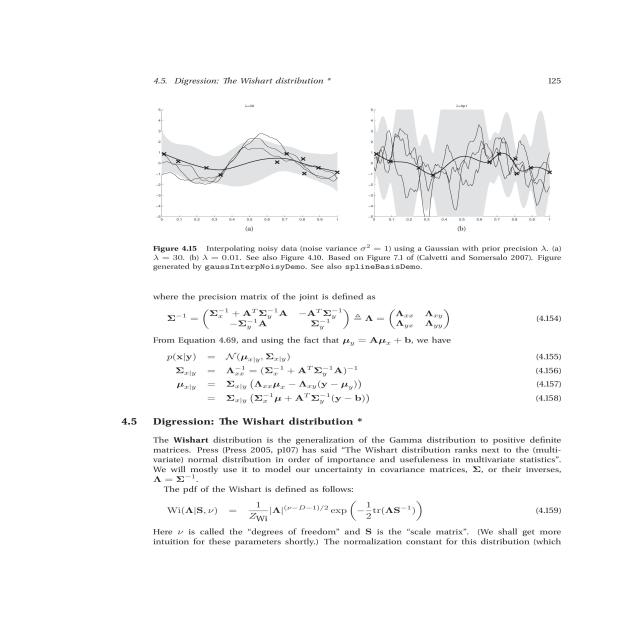diagram: (116, 95, 596, 278)
